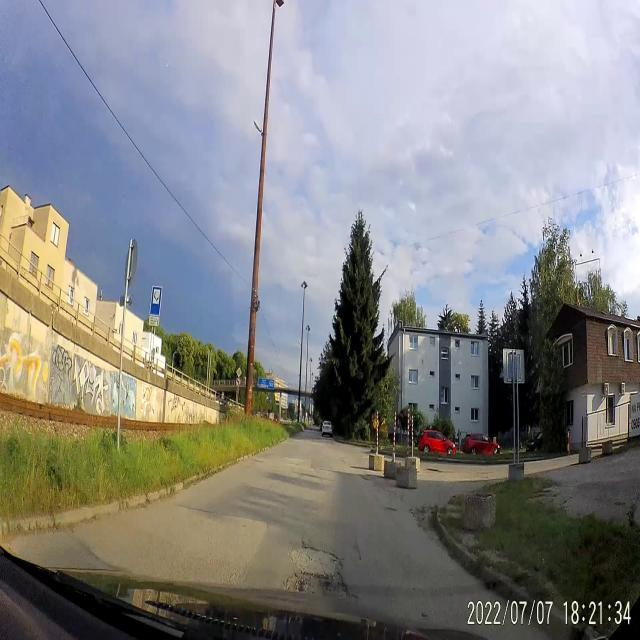Pothole: (284, 544, 351, 599), (383, 502, 396, 516)
